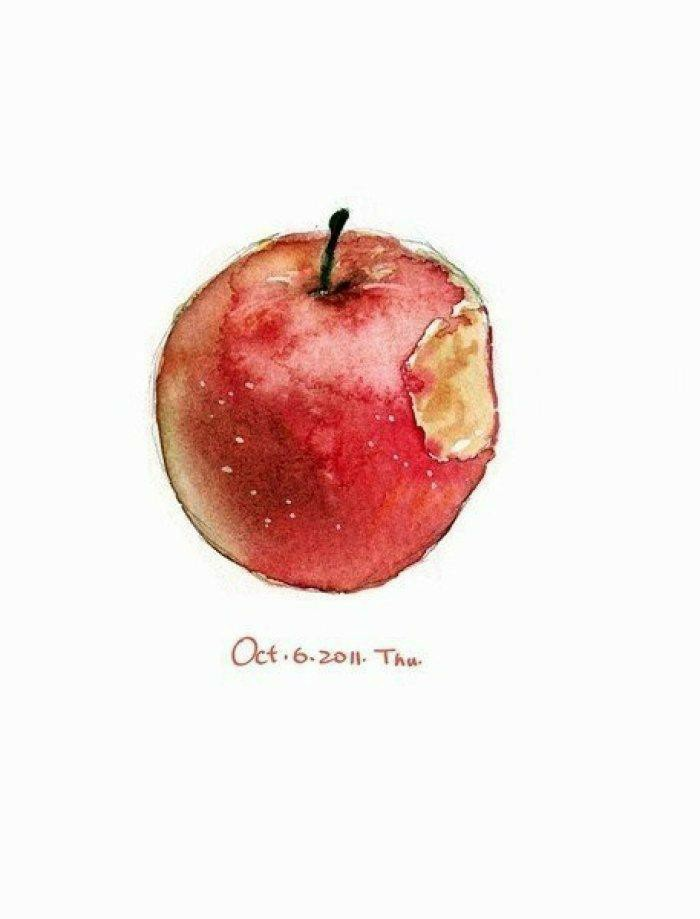rotten_apple: (164, 237, 494, 588)
